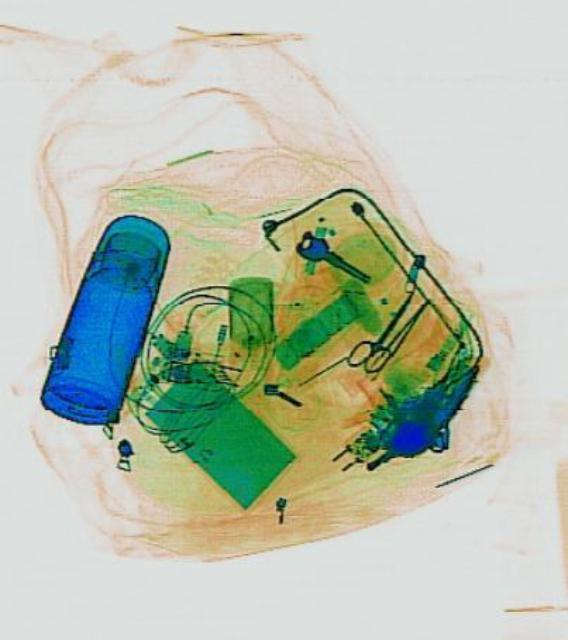Scissors: (340, 280, 425, 380)
